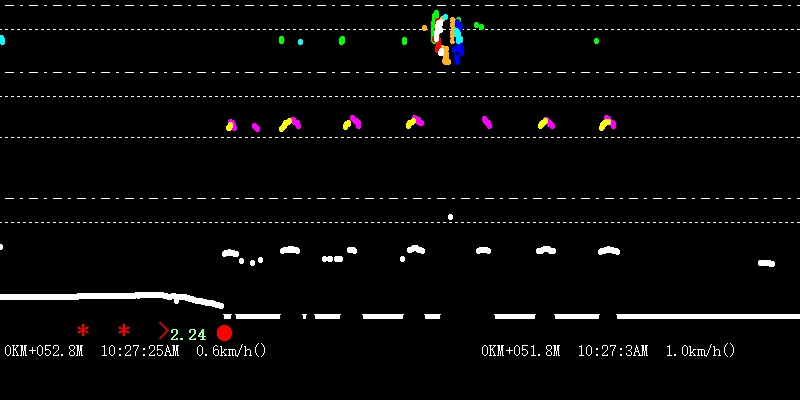J: (430, 2, 466, 67)
circle: (212, 323, 232, 344)
face_down: (337, 22, 344, 48)
star: (116, 320, 130, 338), (76, 321, 88, 341)
y_p: (277, 109, 635, 272)
